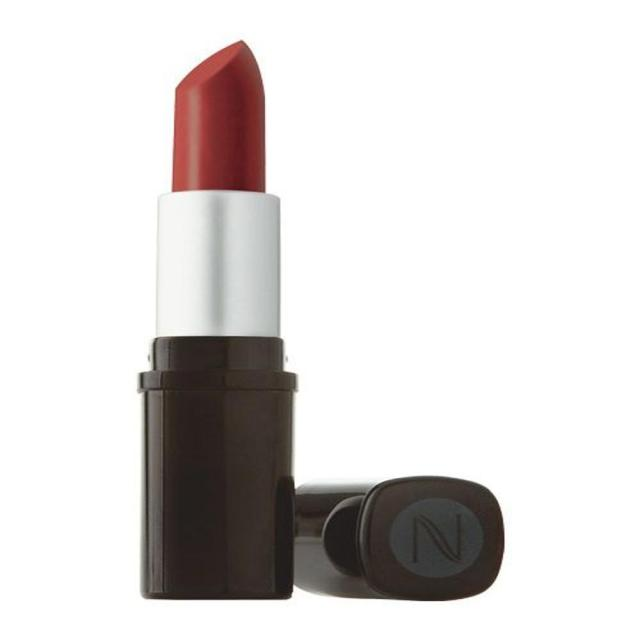lipstick: (120, 9, 304, 606)
